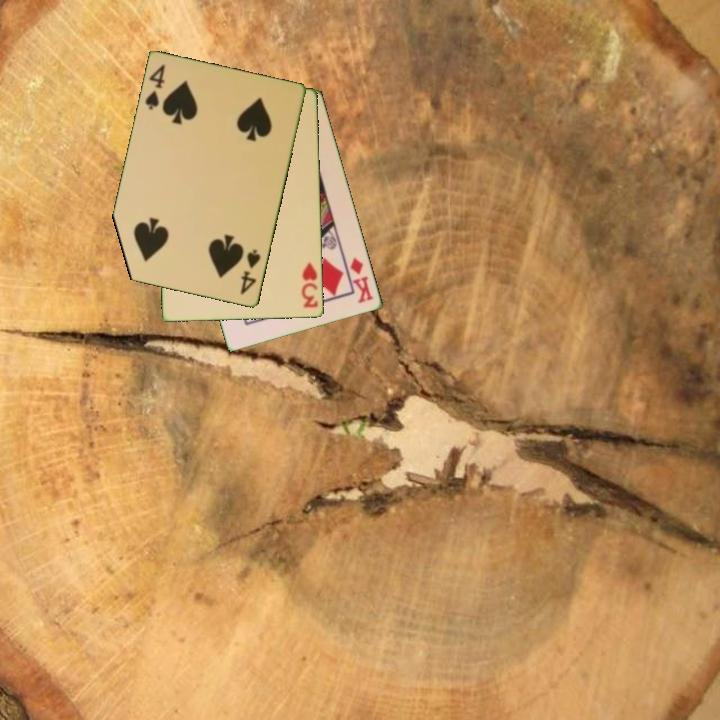3h: (298, 259, 321, 311)
4s: (237, 246, 264, 298), (142, 61, 168, 113)
Kd: (347, 254, 376, 306)
